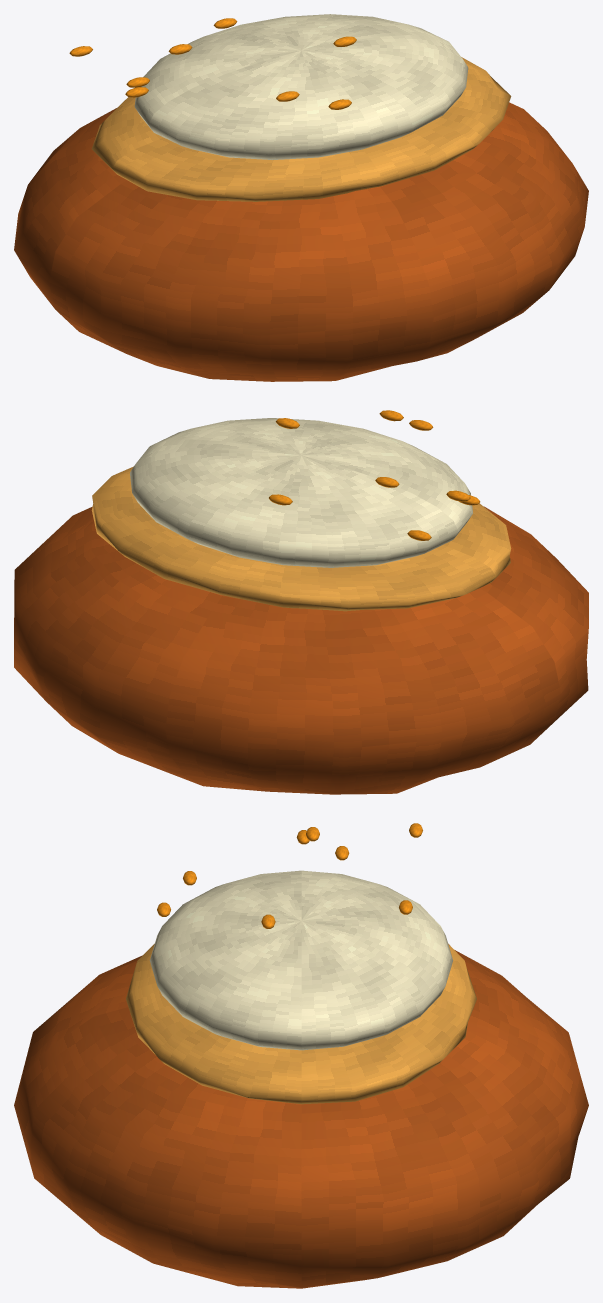
Rendered from bread_gratin.glb.
The picture shows the model from 3 angles, top to bottom: view 1: azimuth 30°, elevation 25°; view 2: azimuth 150°, elevation 25°; view 3: azimuth 270°, elevation 25°; orthographic projection. The views are drawn at different scales.
Visible parts, largest first — view 1: ふっくらした生地.006, クリーミーなグラタン, 具材を載せるくぼみ.006; view 2: ふっくらした生地.006, クリーミーなグラタン, 具材を載せるくぼみ.006; view 3: ふっくらした生地.006, クリーミーなグラタン, 具材を載せるくぼみ.006.
Part boxes in pixels (x1,y1,x2,y2): ふっくらした生地.006: (14,102,588,381); クリーミーなグラタン: (134,14,468,159); 具材を載せるくぼみ.006: (91,57,511,201); ふっくらした生地.006: (14,506,588,794); クリーミーなグラタン: (130,418,472,567); 具材を載せるくぼみ.006: (91,466,511,611); ふっくらした生地.006: (14,950,588,1288); クリーミーなグラタン: (149,870,453,1050); 具材を載せるくぼみ.006: (126,943,476,1104).
Size of the model in its own units: 0.7929 by 0.4504 by 0.72.
Materials: 4 (4 with a texture image).
